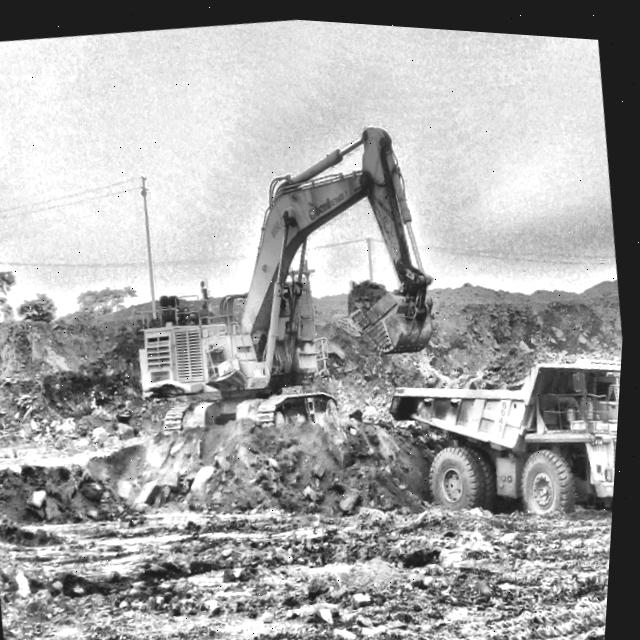dump_truck: (384, 341, 626, 504)
excavator: (143, 123, 437, 396)
